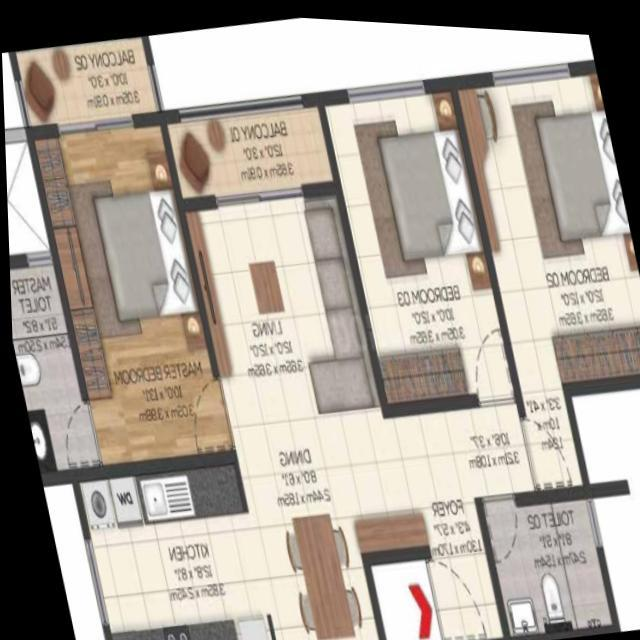Balcony-Sitout: (157, 88, 339, 208), (7, 33, 164, 138)
Bedroom: (315, 71, 517, 415), (447, 51, 640, 391)
Bedroom with Toilet: (4, 108, 232, 484)
Dining: (273, 503, 362, 640)
Enterance-Foyer: (412, 494, 500, 640)
Kitchen: (64, 451, 270, 640)
Living: (175, 174, 386, 434)
Toilet: (470, 479, 617, 638), (8, 264, 91, 471)
